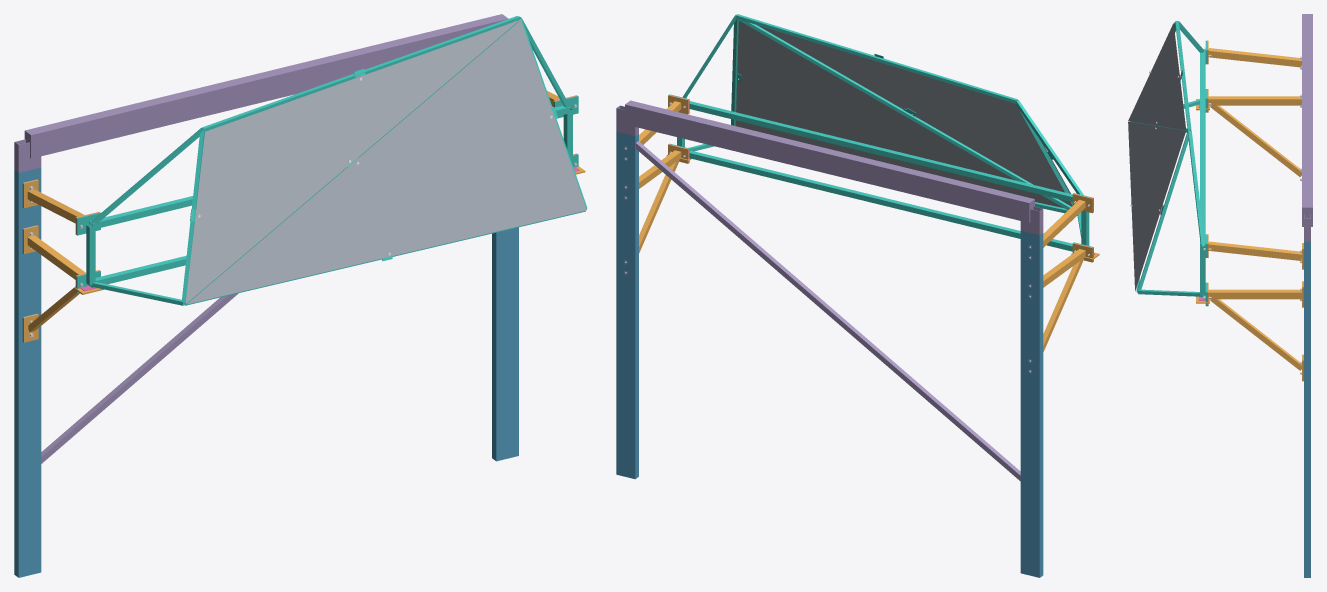
The model's file is baaabs-panel-mounting-v4.glb.
3 views of the same model, side by side, from view 1: azimuth 30°, elevation 25°; view 2: azimuth 150°, elevation 25°; view 3: azimuth 270°, elevation 25° (orthographic). The views are drawn at different scales.
Parts seen in each view (by area): view 1: B-D-033 existing skin, B-D-034 existing skin, Existing roof longitudinal, C driver upright, D driver upright, Existing C-D side brace, Facet backing edge (1, 3), Cassette top rail, Facet corner pickup 3, Cassette bottom rail, Facet backing edge (0, 3), C-lower outrigger; view 2: B-D-033 existing skin, B-D-034 existing skin, Existing roof longitudinal, C driver upright, D driver upright, Existing C-D side brace, Cassette top rail, Cassette bottom rail, Facet backing edge (0, 1), Facet backing edge (1, 3), C lower outrigger brace, D lower outrigger brace (+1 smaller); view 3: B-D-033 existing skin, B-D-034 existing skin, D driver upright, Existing roof longitudinal, Cassette top rail, D-lower outrigger, D-upper outrigger, C-upper outrigger, C-lower outrigger, C lower outrigger brace, D lower outrigger brace, Facet backing edge (1, 2) (+4 smaller).
Part boxes in pixels (left/top/right/bottom): B-D-033 existing skin: left=186, top=20, right=586, bottom=304; B-D-034 existing skin: left=185, top=20, right=519, bottom=303; Existing roof longitudinal: left=24, top=14, right=508, bottom=158; C driver upright: left=14, top=167, right=41, bottom=577; D driver upright: left=492, top=227, right=518, bottom=461; Existing C-D side brace: left=41, top=293, right=238, bottom=463; Facet backing edge (1, 3): left=201, top=16, right=519, bottom=132; Cassette top rail: left=89, top=105, right=570, bottom=229; Facet corner pickup 3: left=89, top=128, right=202, bottom=226; Cassette bottom rail: left=89, top=255, right=186, bottom=287; Facet backing edge (0, 3): left=181, top=130, right=204, bottom=303; C-lower outrigger: left=27, top=235, right=85, bottom=279; B-D-033 existing skin: left=735, top=20, right=1063, bottom=207; B-D-034 existing skin: left=757, top=25, right=1072, bottom=206; Existing roof longitudinal: left=625, top=100, right=1034, bottom=222; C driver upright: left=1020, top=230, right=1043, bottom=577; D driver upright: left=616, top=132, right=638, bottom=479; Existing C-D side brace: left=636, top=141, right=1020, bottom=481; Cassette top rail: left=689, top=101, right=1072, bottom=202; Cassette bottom rail: left=689, top=150, right=1072, bottom=251; Facet backing edge (0, 1): left=736, top=18, right=1071, bottom=209; Facet backing edge (1, 3): left=735, top=14, right=1017, bottom=103; C lower outrigger brace: left=1043, top=258, right=1083, bottom=351; D lower outrigger brace: left=639, top=160, right=679, bottom=253; B-D-033 existing skin: left=1128, top=121, right=1185, bottom=291; B-D-034 existing skin: left=1128, top=23, right=1186, bottom=130; D driver upright: left=1304, top=241, right=1310, bottom=577; Existing roof longitudinal: left=1302, top=14, right=1312, bottom=226; Cassette top rail: left=1200, top=50, right=1205, bottom=245; D-lower outrigger: left=1208, top=289, right=1301, bottom=299; D-upper outrigger: left=1208, top=241, right=1301, bottom=260; C-upper outrigger: left=1208, top=48, right=1301, bottom=67; C-lower outrigger: left=1208, top=96, right=1301, bottom=105; C lower outrigger brace: left=1210, top=105, right=1301, bottom=176; D lower outrigger brace: left=1210, top=299, right=1301, bottom=370; Facet backing edge (1, 2): left=1137, top=130, right=1189, bottom=291.
Size of the model in its own units: 3.41 by 3.28 by 1.31.
